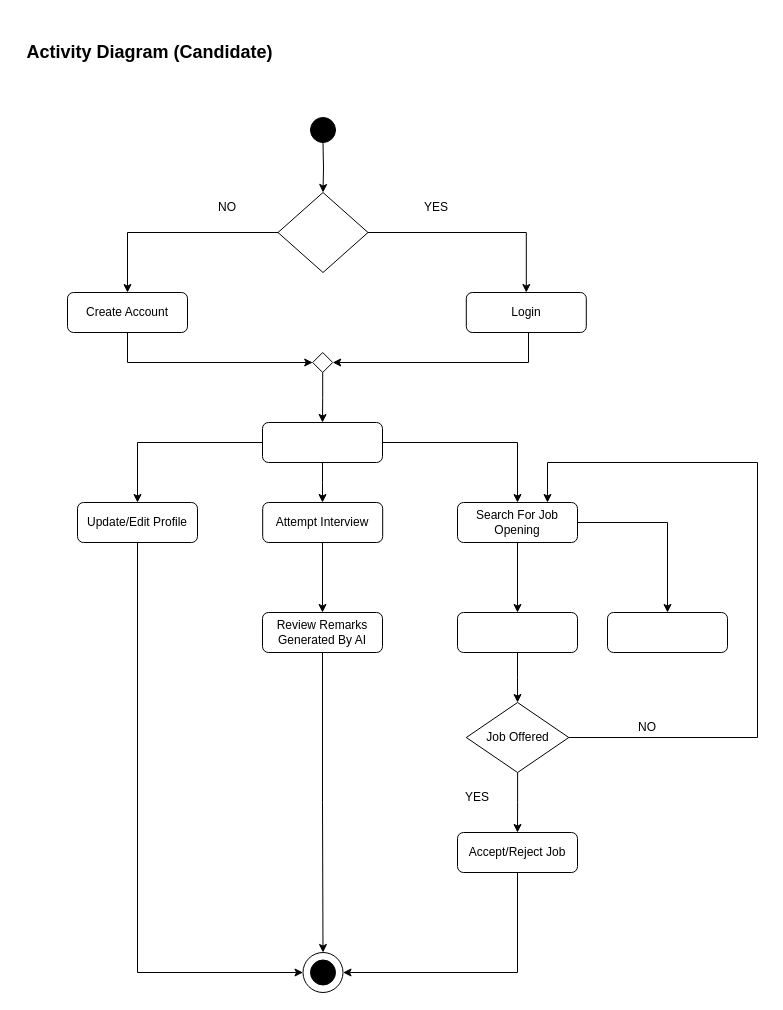
Image size: 783x1010. Some labels were removed from this diagram. The shapes that lost their labels are listed below. From the top down, each one's centre as x and y in pixels, then its label:
At (322,232): "Account Exists".
At (322,442): "Home Page".
At (517,632): "Apply for Job".
At (667,632): "Send Notification on Job Posting".
